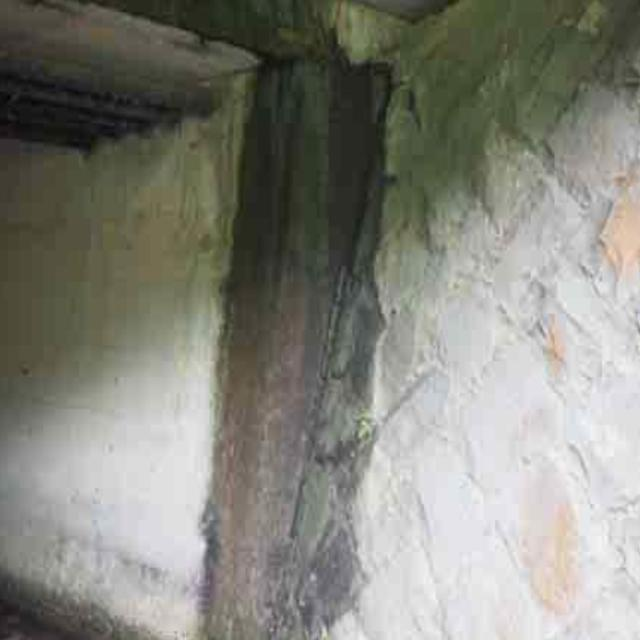leakage: (209, 54, 384, 630)
